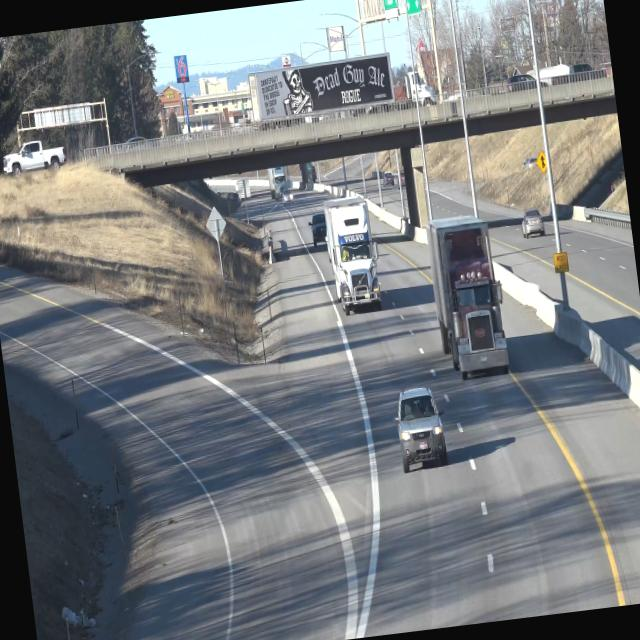Vehicle: (424, 211, 512, 380), (321, 194, 386, 313), (391, 381, 451, 473), (520, 202, 548, 240)
